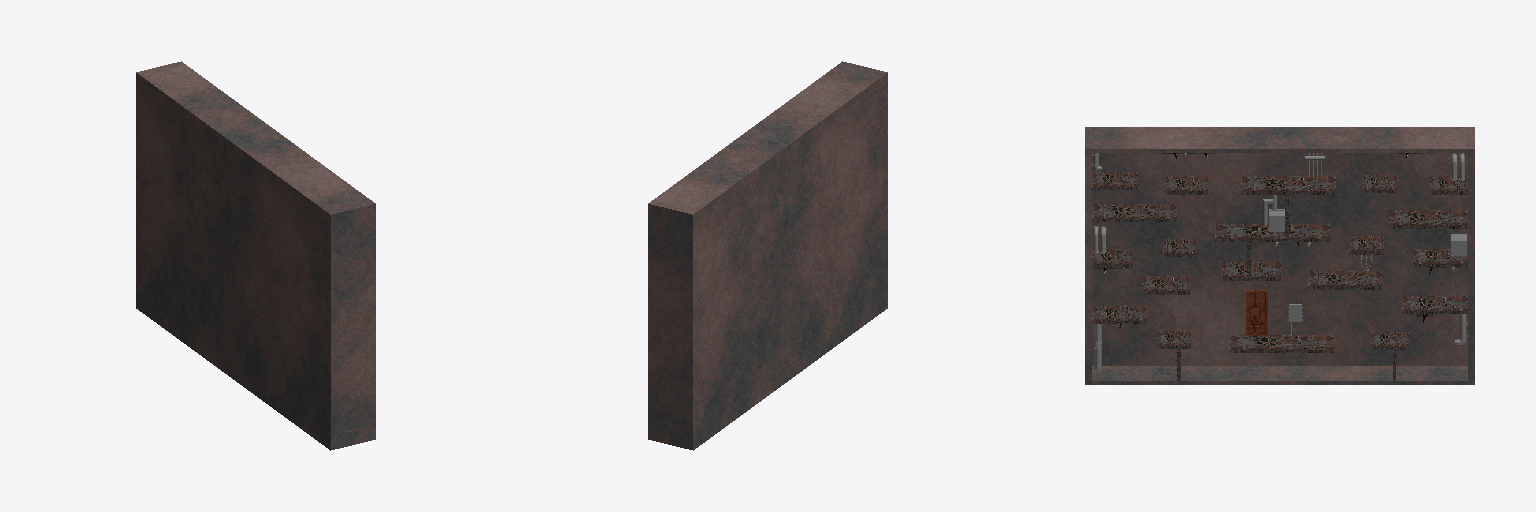
3 views of the same model, side by side, from view 1: azimuth 30°, elevation 25°; view 2: azimuth 150°, elevation 25°; view 3: azimuth 270°, elevation 25° (orthographic).
Parts seen in each view (by area): view 1: Caja3; view 2: Caja3; view 3: Caja3.
Boxes of the visible parts, x1=… form: Caja3: x1=136, y1=61, x2=375, y2=450; Caja3: x1=648, y1=61, x2=887, y2=450; Caja3: x1=1085, y1=127, x2=1474, y2=384.
Size of the model in its own units: 5.48 by 27.3 by 40.8.
Materials: 15 (5 with a texture image).